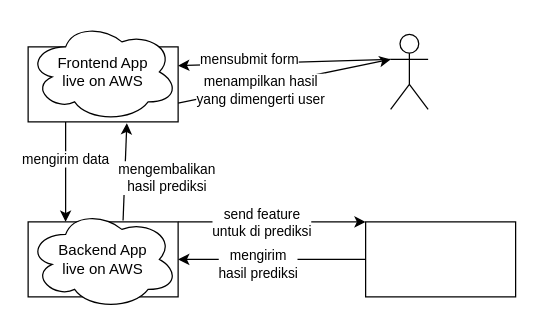
The diagram is 538 pixels wide and 331 high, and some of its shapes have lost their labels. Each missing label, with the centre of its shape:
"Model" belongs at (x=440, y=259).
"user" belongs at (x=408, y=71).
